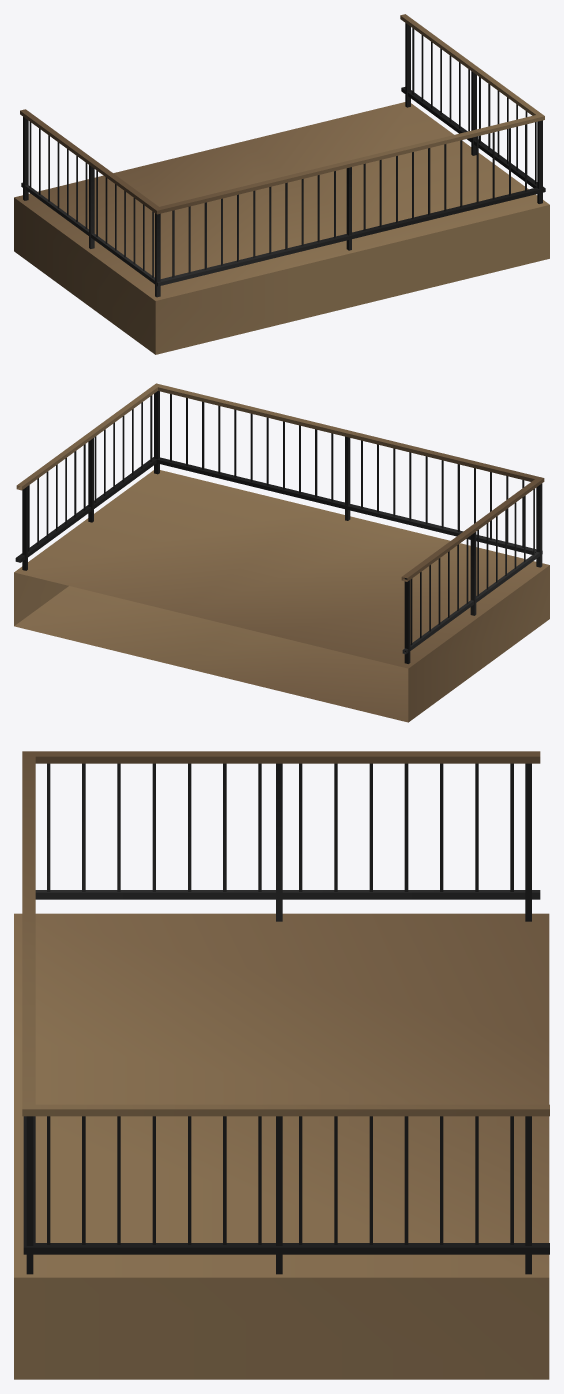
Rendered from Terrace.fbx.
3 views of the same model, one above another, from view 1: azimuth 30°, elevation 25°; view 2: azimuth 150°, elevation 25°; view 3: azimuth 270°, elevation 25° (orthographic). The views are drawn at different scales.
Parts seen in each view (by area): view 1: Cube.008; view 2: Cube.008; view 3: Cube.008.
Boxes of the visible parts, x1,y1,x2,y2 form: Cube.008: [14, 14, 549, 354]; Cube.008: [14, 383, 549, 722]; Cube.008: [14, 751, 549, 1379].
Bounding box in the file's own units: 1344 × 461 × 836.
